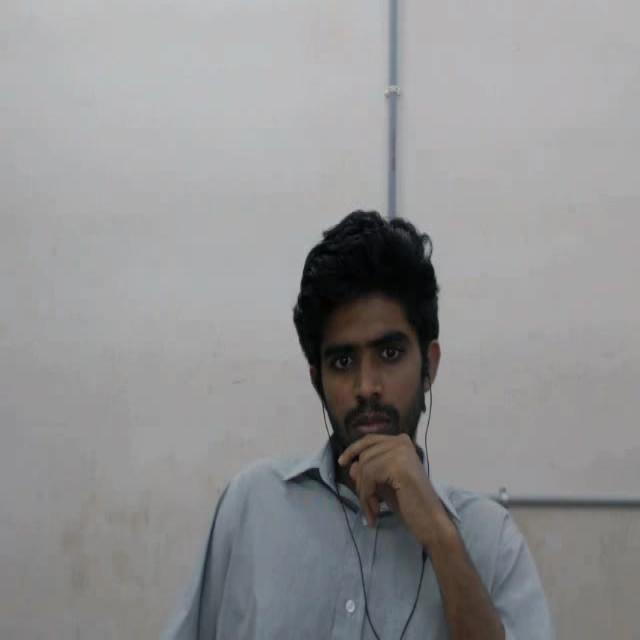Bored: (276, 169, 504, 513)
